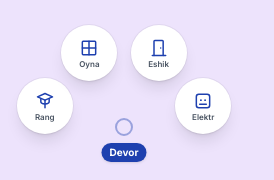
it: tapping a wall-menu button › opens the device list without dismissing the menu
The image size is (274, 180).
Click the button "Elektr": point(203, 106) [175,78,231,134]
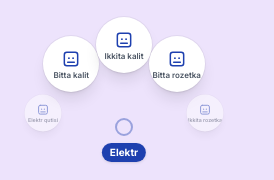
Check: the text "Ikkita kalit" is shown, box [104,52,144,60]
